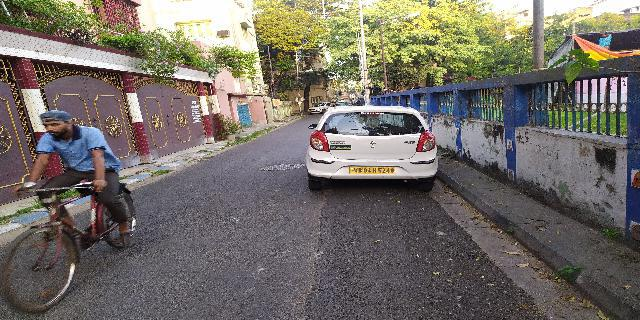Car: (298, 103, 452, 193)
Cycle: (2, 107, 141, 309)
